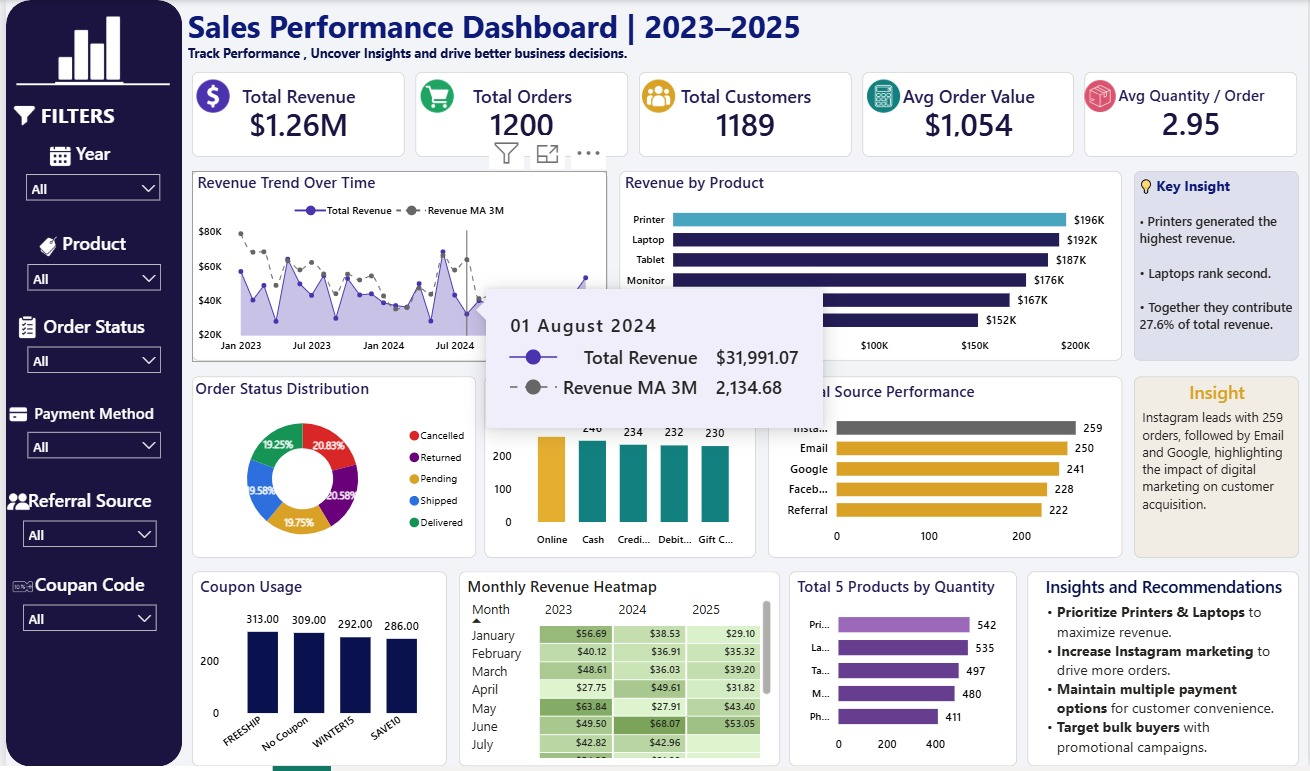

The page's visual inventory and layout, read from the dashboard file:
{"tool":"powerbi","page":{"name":"Sales Performance Dashboard","canvas":[1360,800],"ordinal":0},"visuals":[{"type":"shape","box":[0,0,184.1,800.6],"z":0},{"type":"textbox","box":[184.1,0,719,71.2],"z":1000},{"type":"textbox","box":[184.1,40.9,599.6,29.9],"z":2000},{"type":"card","title":"Total Revenue","fields":{"Values":["Measures Table.Total Revenue"]},"box":[194.5,74.7,222,88.6],"z":3000},{"type":"card","title":"Total Orders","fields":{"Values":["Measures Table.Total Orders"]},"box":[427.9,74.7,222,88.6],"z":4000},{"type":"card","title":"Avg Order Value","fields":{"Values":["Measures Table.Avg Order Value"]},"box":[895.1,74.7,220.6,88.6],"z":5000},{"type":"card","title":"Total Customers","fields":{"Values":["Measures Table.Total Customers"]},"box":[661.4,74.7,222.3,88.6],"z":6000},{"type":"card","title":"Avg Quantity / Order","fields":{"Values":["Measures Table.Avg Quantity per Order"]},"box":[1127.1,74.7,222.3,88.6],"z":7000},{"type":"areaChart","title":"Revenue Trend Over Time","fields":{"Category":["Calendar.Year-Month"],"Y":["Measures Table.Total Revenue"],"Y2":["Measures Table.Revenue MA 3M"]},"box":[194.5,178.9,434.2,198],"z":8000},{"type":"clusteredBarChart","title":"Revenue by Product","fields":{"Category":["Orders.Product"],"Y":["Measures Table.Total Revenue"]},"box":[640.8,178.9,524.5,198],"z":9000},{"type":"donutChart","title":"Order Status  Distribution","fields":{"Category":["Orders.OrderStatus"],"Y":["Measures Table.Total Orders"]},"box":[194.5,392.5,297,189.3],"z":10000},{"type":"clusteredColumnChart","title":"Coupon Usage","fields":{"Category":["Orders.CouponCode"],"Y":["Measures Table.Total Orders"]},"box":[194.5,597.4,265.7,203.2],"z":11000},{"type":"columnChart","title":"Payment Method Analysis","fields":{"Category":["Orders.PaymentMethod"],"Y":["Measures Table.Total Orders"]},"box":[500.2,392.5,283.1,189.3],"z":12000},{"type":"barChart","title":"Referral Source Performance","fields":{"Category":["Orders.ReferralSource"],"Y":["Measures Table.Total Orders"]},"box":[795.4,393.4,369.7,189.2],"z":13000},{"type":"pivotTable","title":"Monthly Revenue Heatmap","fields":{"Columns":["Calendar.Year"],"Rows":["Calendar.Month"],"Values":["Measures Table.Revenue (K)"]},"box":[472.4,597.4,335.2,203.2],"z":14000},{"type":"barChart","title":"Total 5 Products by Quantity","fields":{"Category":["Orders.Product"],"Y":["Measures Table.Total Quantity"]},"box":[818,597.4,237.9,203.2],"z":15000},{"type":"textbox","title":"Insight","box":[1177.5,178.9,171.9,198],"z":16000},{"type":"textbox","title":"Insight","box":[1178,393.4,172,189.2],"z":17000},{"type":"textbox","title":"Insights and Recommendations ","box":[1066.3,597.4,283.1,203.2],"z":18000},{"type":"shape","box":[10.7,74.7,160,25.6],"z":19000},{"type":"textbox","box":[32,100.3,140.8,46.9],"z":20000},{"type":"slicer","title":"Year","fields":{"Values":["Calendar.Year"]},"box":[10.7,147.2,160,72],"z":21000},{"type":"slicer","title":"Product","fields":{"Values":["Orders.Product"]},"box":[12.9,240.8,159.1,73.1],"z":22000},{"type":"slicer","title":"Order Status","fields":{"Values":["Orders.OrderStatus"]},"box":[12.9,326.7,159.1,73.1],"z":23000},{"type":"slicer","title":"Payment Method","fields":{"Values":["Orders.PaymentMethod"]},"box":[12.9,419.2,159.1,68.8],"z":24000},{"type":"slicer","title":"Referral Source","fields":{"Values":["Orders.ReferralSource"]},"box":[8.6,509.5,159.1,73.1],"z":25000},{"type":"slicer","title":"Coupan  Code","fields":{"Values":["Orders.CouponCode"]},"box":[8.6,597.6,159.1,73.1],"z":26000},{"type":"image","box":[6.9,99.5,25.7,42.9],"z":27000},{"type":"image","box":[0,17.2,174.1,70.9],"z":28000},{"type":"image","box":[45.2,142.4,22.6,41.7],"z":29000},{"type":"image","box":[1.7,411.6,22.6,41.7],"z":30000},{"type":"image","box":[10.4,321.3,22.6,41.7],"z":31000},{"type":"image","box":[33,236.2,22.6,41.7],"z":32000},{"type":"image","box":[0,503.6,26,41.7],"z":33000},{"type":"image","box":[6.9,592.2,22.6,41.7],"z":34000},{"type":"image","box":[194.5,83.4,43.4,34.7],"z":35000},{"type":"image","box":[894.4,83.4,43.4,34.7],"z":36000},{"type":"image","box":[659.9,83.4,43.4,34.7],"z":37000},{"type":"image","box":[427.2,83.4,45.2,34.7],"z":38000},{"type":"image","box":[1127.1,83.4,33,34.7],"z":39000}]}

Visuals, with their boxes in screenshot pixels (x1, y1, x2, y2), scaled from the page's 1360x800 canvas onto the 1310x771 screenshot:
shape: [left=0, top=0, right=177, bottom=770]
textbox: [left=177, top=0, right=870, bottom=69]
textbox: [left=177, top=39, right=755, bottom=68]
"Total Revenue" card: [left=187, top=72, right=401, bottom=157]
"Total Orders" card: [left=412, top=72, right=626, bottom=157]
"Avg Order Value" card: [left=862, top=72, right=1075, bottom=157]
"Total Customers" card: [left=637, top=72, right=851, bottom=157]
"Avg Quantity / Order" card: [left=1086, top=72, right=1300, bottom=157]
"Revenue Trend Over Time" areaChart: [left=187, top=172, right=606, bottom=363]
"Revenue by Product" clusteredBarChart: [left=617, top=172, right=1122, bottom=363]
"Order Status  Distribution" donutChart: [left=187, top=378, right=473, bottom=561]
"Coupon Usage" clusteredColumnChart: [left=187, top=576, right=443, bottom=770]
"Payment Method Analysis" columnChart: [left=482, top=378, right=755, bottom=561]
"Referral Source Performance" barChart: [left=766, top=379, right=1122, bottom=561]
"Monthly Revenue Heatmap" pivotTable: [left=455, top=576, right=778, bottom=770]
"Total 5 Products by Quantity" barChart: [left=788, top=576, right=1017, bottom=770]
"Insight" textbox: [left=1134, top=172, right=1300, bottom=363]
"Insight" textbox: [left=1135, top=379, right=1300, bottom=561]
"Insights and Recommendations " textbox: [left=1027, top=576, right=1300, bottom=770]
shape: [left=10, top=72, right=164, bottom=97]
textbox: [left=31, top=97, right=166, bottom=142]
"Year" slicer: [left=10, top=142, right=164, bottom=211]
"Product" slicer: [left=12, top=232, right=166, bottom=303]
"Order Status" slicer: [left=12, top=315, right=166, bottom=385]
"Payment Method" slicer: [left=12, top=404, right=166, bottom=470]
"Referral Source" slicer: [left=8, top=491, right=162, bottom=561]
"Coupan  Code" slicer: [left=8, top=576, right=162, bottom=646]
image: [left=7, top=96, right=31, bottom=137]
image: [left=0, top=17, right=168, bottom=85]
image: [left=44, top=137, right=65, bottom=177]
image: [left=2, top=397, right=23, bottom=437]
image: [left=10, top=310, right=32, bottom=350]
image: [left=32, top=228, right=54, bottom=268]
image: [left=0, top=485, right=25, bottom=526]
image: [left=7, top=571, right=28, bottom=611]
image: [left=187, top=80, right=229, bottom=114]
image: [left=862, top=80, right=903, bottom=114]
image: [left=636, top=80, right=677, bottom=114]
image: [left=411, top=80, right=455, bottom=114]
image: [left=1086, top=80, right=1117, bottom=114]
